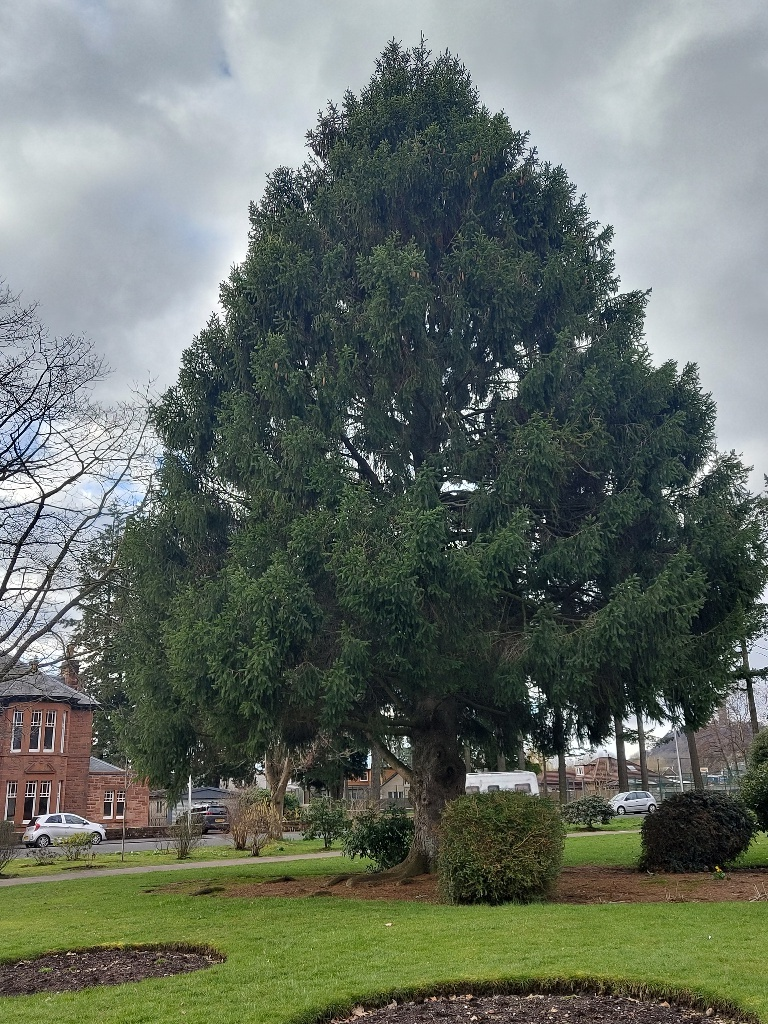Tree: (117, 27, 768, 887)
